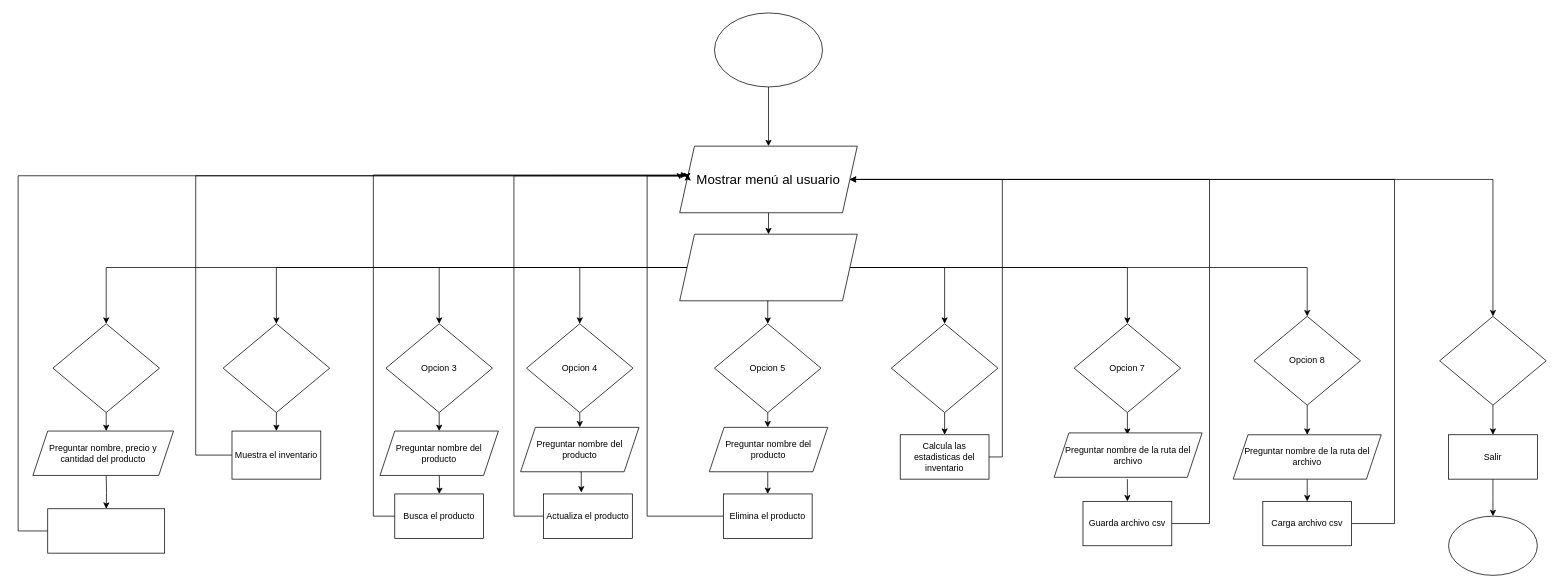
Some shapes in this 1559 by 588 pixel diagram are drawn without their labels. The box of each missing label's shape, as (x1, y1, x2, y2) in pixels:
Agregar producto al inventario: (47, 508, 165, 553)
FIN: (1448, 515, 1537, 575)
INICIO: (714, 12, 823, 87)
Opcion 1: (52, 323, 159, 413)
Opcion 2: (222, 323, 330, 413)
Opcion 6: (891, 323, 998, 413)
Opcion 9: (1439, 316, 1546, 405)
Pedir opción al usuario: (679, 233, 857, 301)
